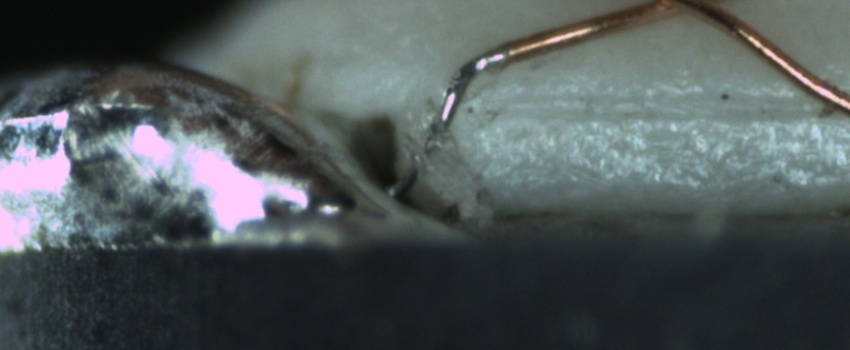CL: (631, 0, 720, 18)
DL: (490, 74, 850, 134)
TS: (391, 47, 508, 200)
TTCW: (383, 32, 554, 187)
